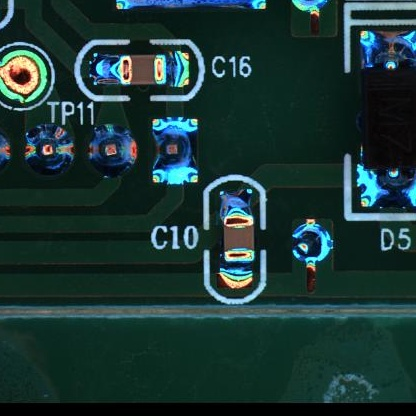spot: (150, 117, 200, 185), (23, 123, 74, 177), (88, 124, 138, 178), (1, 49, 47, 104), (292, 220, 332, 267)
